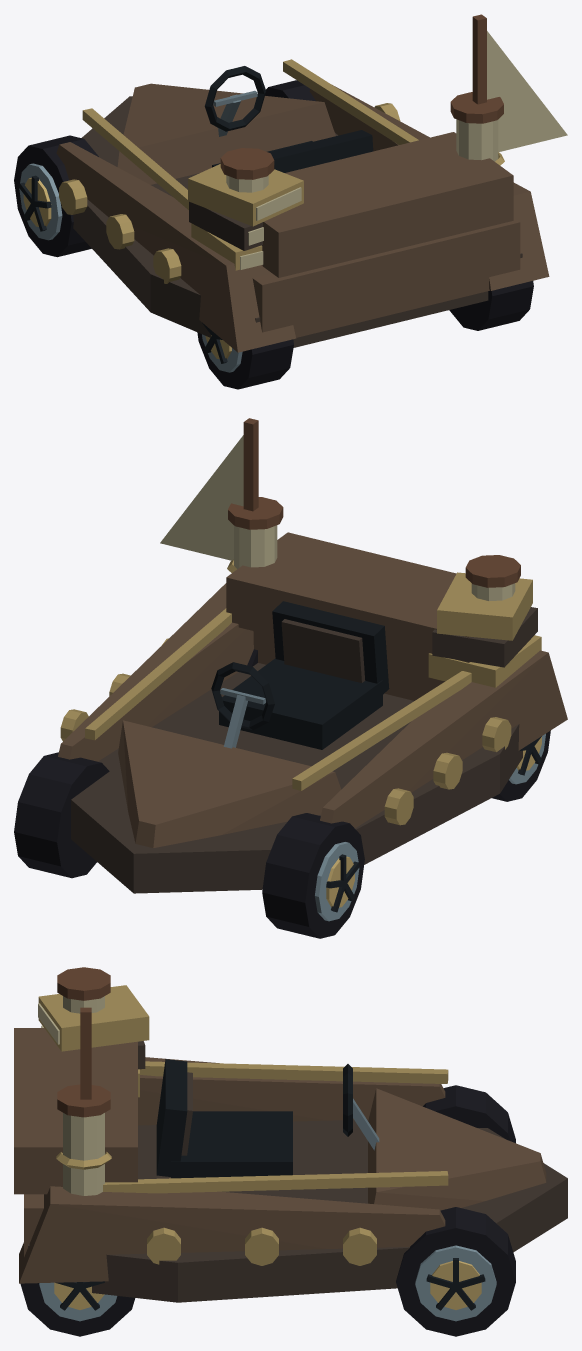
File: kart.glb
3 renders of one model, top to bottom at view 1: azimuth 30°, elevation 25°; view 2: azimuth 150°, elevation 25°; view 3: azimuth 270°, elevation 25°, orthographic. The views are drawn at different scales.
Visible parts, largest first — view 1: identity-ship-ship-pointed-bow-and-raised-stern, identity-ship-motif-books, identity-ship-motif-sail, wheel-front-left, identity-ship-motif-scrolls, identity-ship-driver-cockpit, wheel-rear-left, wheel-rear-right, wheel-front-right; view 2: identity-ship-ship-pointed-bow-and-raised-stern, identity-ship-driver-cockpit, wheel-front-left, identity-ship-motif-books, wheel-front-right, identity-ship-motif-sail, identity-ship-motif-scrolls, wheel-rear-left; view 3: identity-ship-ship-pointed-bow-and-raised-stern, identity-ship-driver-cockpit, wheel-front-right, identity-ship-motif-scrolls, identity-ship-motif-books, wheel-rear-right, wheel-front-left, identity-ship-motif-sail.
Boxes of the visible parts, x1,y1,x2,y2 form: identity-ship-ship-pointed-bow-and-raised-stern: (56, 59, 549, 352); identity-ship-motif-books: (188, 164, 303, 270); identity-ship-motif-sail: (472, 14, 567, 151); wheel-front-left: (14, 135, 98, 257); identity-ship-motif-scrolls: (220, 92, 504, 192); identity-ship-driver-cockpit: (204, 66, 373, 172); wheel-rear-left: (197, 322, 293, 389); wheel-rear-right: (449, 281, 533, 330); wheel-front-right: (265, 80, 315, 101); identity-ship-ship-pointed-bow-and-raised-stern: (58, 532, 567, 893); identity-ship-driver-cockpit: (211, 601, 389, 749); wheel-front-left: (262, 813, 364, 938); identity-ship-motif-books: (428, 572, 541, 687); wheel-front-right: (14, 752, 109, 878); identity-ship-motif-sail: (160, 418, 258, 560); identity-ship-motif-scrolls: (227, 497, 520, 600); wheel-rear-left: (492, 730, 550, 801); identity-ship-ship-pointed-bow-and-raised-stern: (14, 1028, 567, 1302); identity-ship-driver-cockpit: (156, 1059, 379, 1178); wheel-front-right: (396, 1207, 515, 1336); identity-ship-motif-scrolls: (56, 967, 111, 1195); identity-ship-motif-books: (38, 985, 149, 1097); wheel-rear-right: (20, 1281, 135, 1336); wheel-front-left: (423, 1085, 515, 1143); identity-ship-motif-sail: (80, 1007, 91, 1099).
Bounding box in the file's own units: 2.24 × 1.74 × 2.77.
